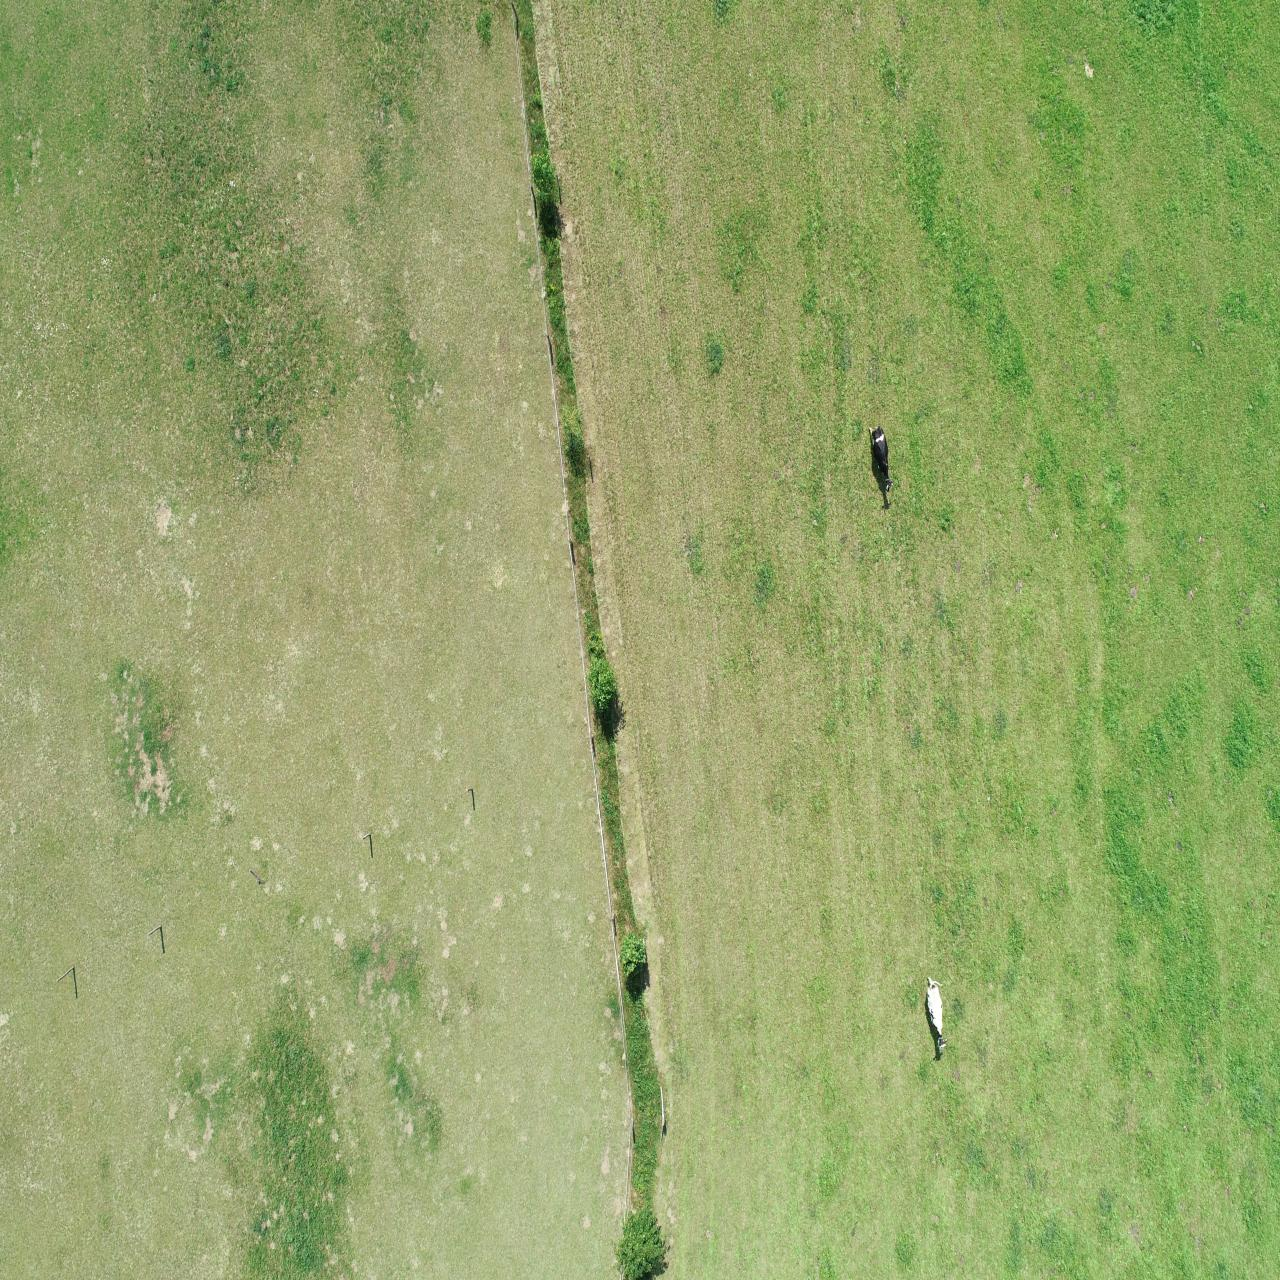cow: (923, 974, 950, 1054), (866, 422, 894, 493)
